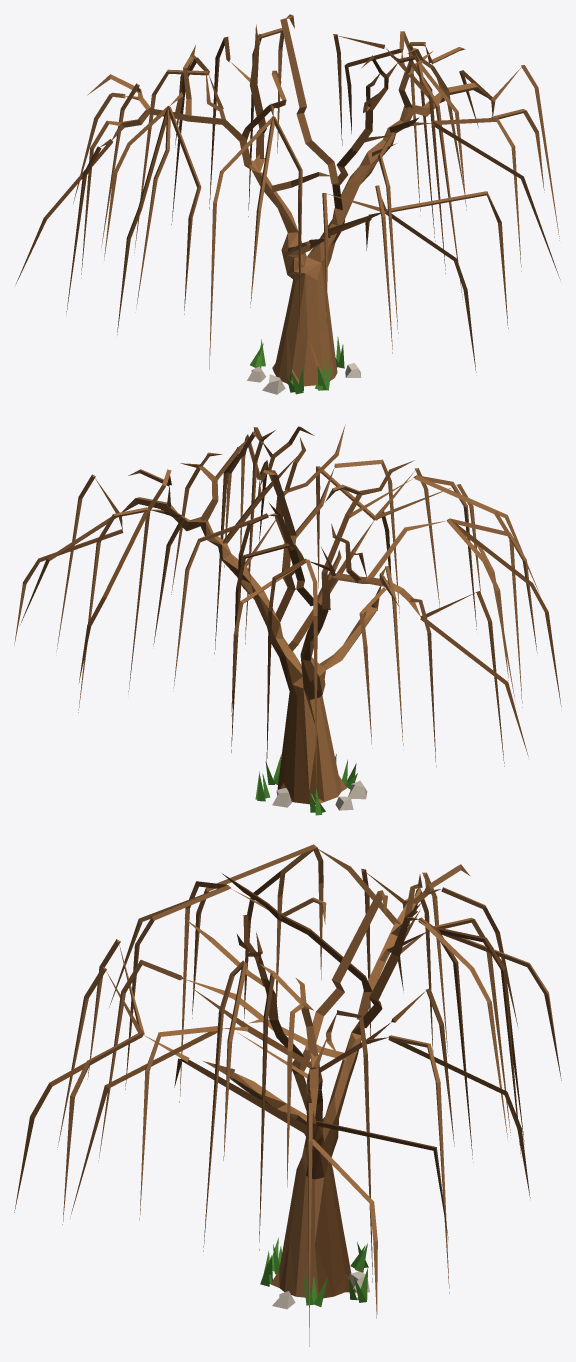
The model's file is wisteria_bare.glb.
3 views of the same model, one above another, from view 1: azimuth 30°, elevation 25°; view 2: azimuth 150°, elevation 25°; view 3: azimuth 270°, elevation 25° (orthographic). The views are drawn at different scales.
Parts seen in each view (by area): view 1: wisteria_bare; view 2: wisteria_bare; view 3: wisteria_bare.
Part boxes in pixels (<box>): wisteria_bare: <box>15,14,560,394</box>; wisteria_bare: <box>14,425,561,815</box>; wisteria_bare: <box>14,844,561,1346</box>.
Bounding box in the file's own units: 9.61 × 5.94 × 7.38.
